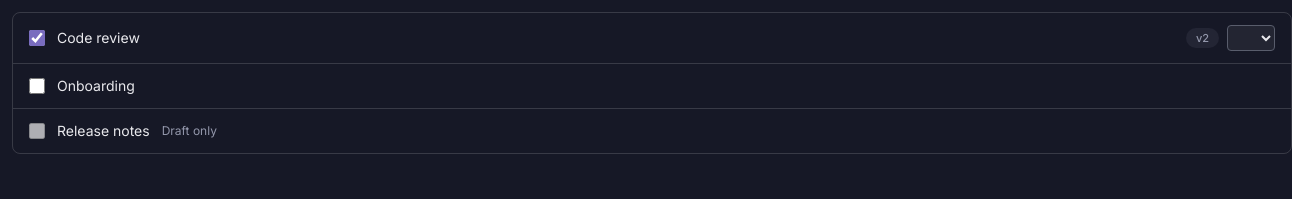
Test case: AgentSkillsPicker › shows an error when a toggle fails
This screenshot has width=1292, height=199.
Click the checkbox labelled "Onboarding": (37, 86) [29,78,45,94]
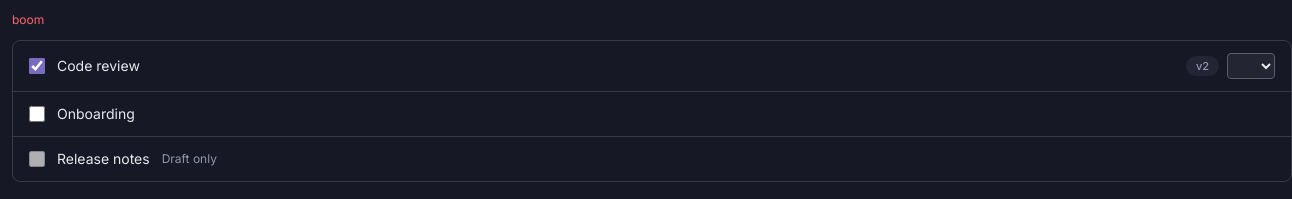
Check: the checkbox labelled "Onboarding" is not checked, box [29,106,45,122]
Check: the text "boom" is shown, box [12,12,44,27]
